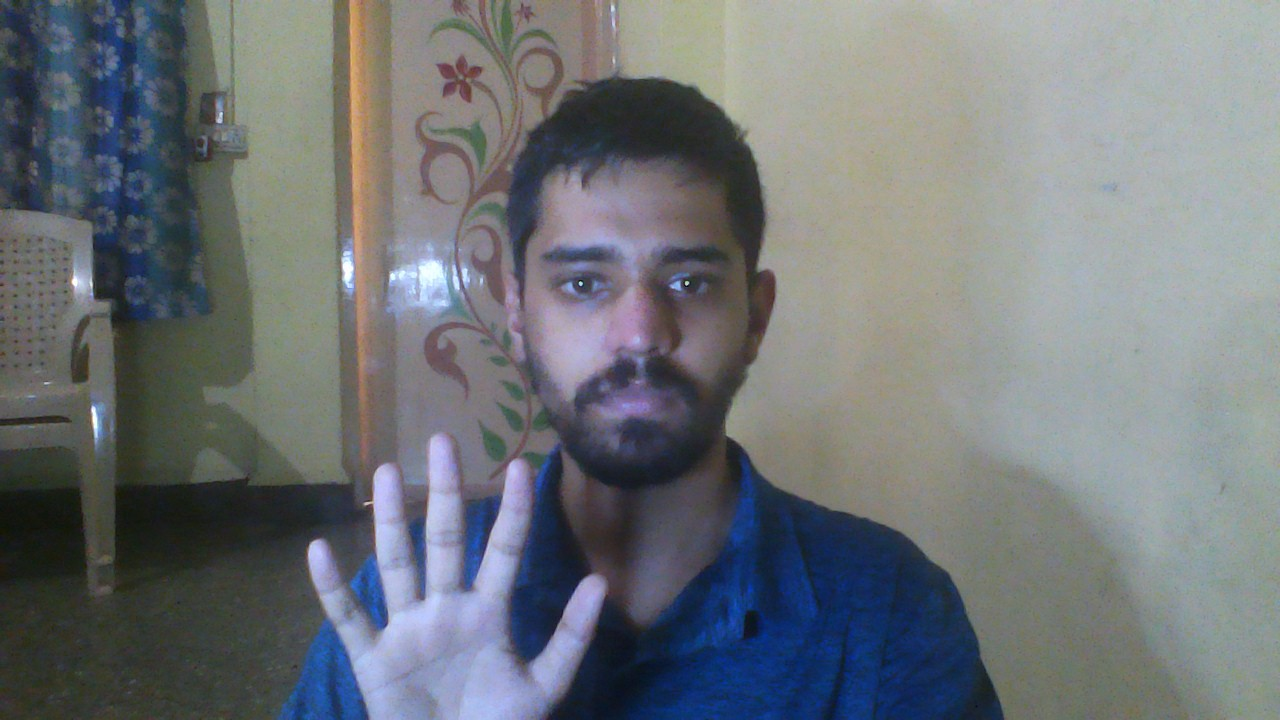hello: (289, 423, 616, 720)
